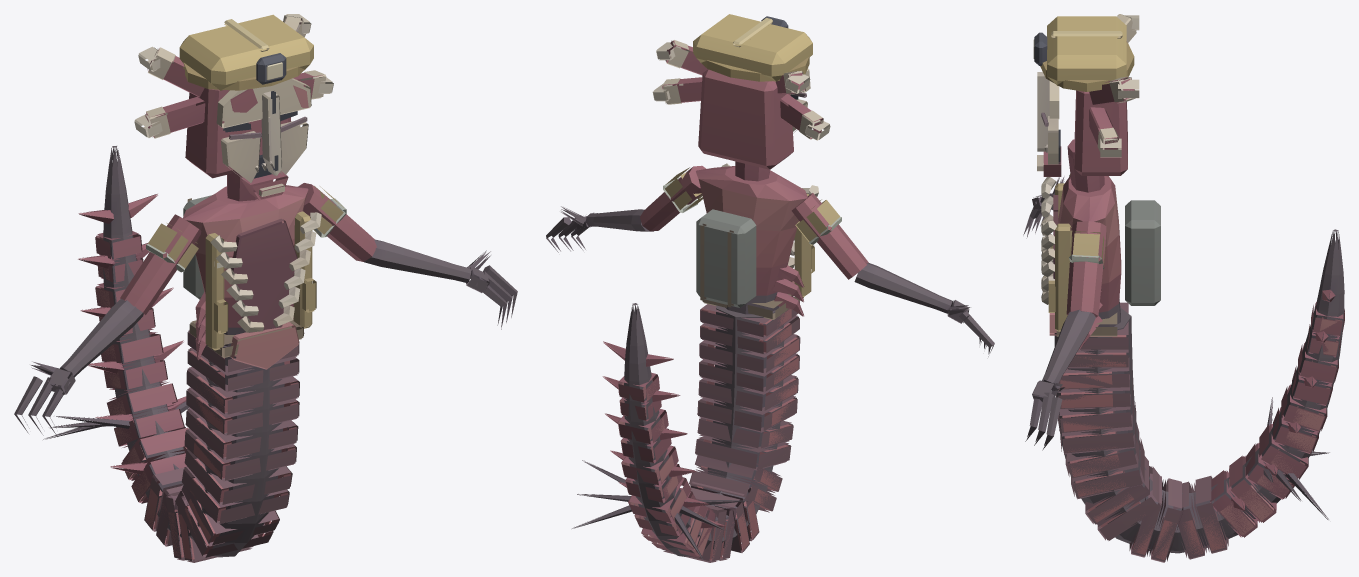
Rendered from DredgeMiner.glb.
The picture shows the model from 3 angles, left to right: view 1: azimuth 30°, elevation 25°; view 2: azimuth 150°, elevation 25°; view 3: azimuth 270°, elevation 25°; orthographic projection. The views are drawn at different scales.
Visible parts, largest first — view 1: Body, Head, ArmR, ArmL; view 2: Body, Head, ArmR, ArmL; view 3: Body, Head, ArmL, ArmR.
Part boxes in pixels (x1,y1,x2,y2): Body: (43, 146, 321, 562); Head: (134, 14, 333, 201); ArmR: (14, 214, 201, 435); ArmL: (298, 183, 517, 329); Body: (572, 163, 818, 562); Head: (652, 14, 830, 181); ArmR: (791, 193, 994, 356); ArmL: (546, 165, 706, 252); Body: (1041, 175, 1344, 562); Head: (1033, 14, 1139, 192); ArmL: (1025, 221, 1106, 450); ArmR: (1023, 174, 1070, 238).
Size of the model in its own units: 6.83 by 7.16 by 4.02.
